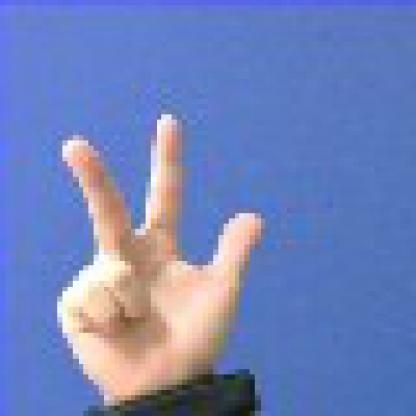eight: (42, 104, 277, 403)
